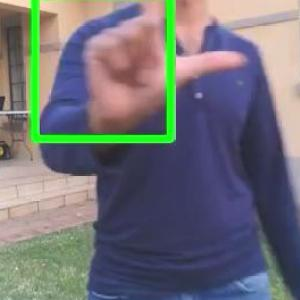land_hand: (74, 0, 258, 132)
